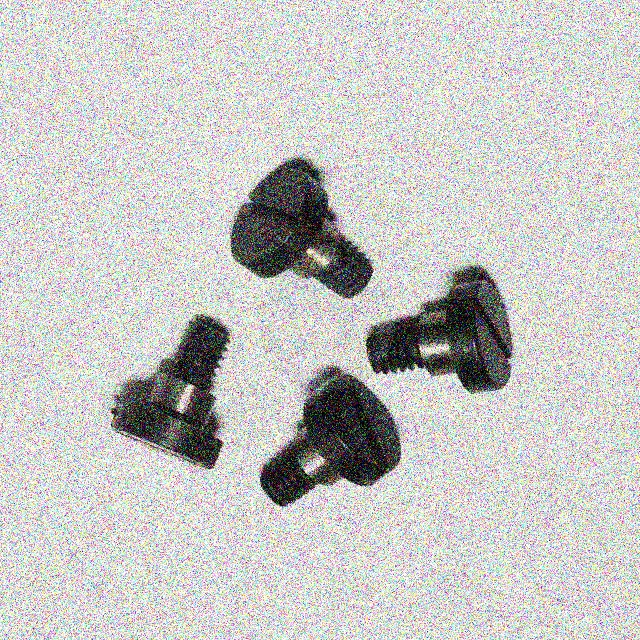duz: (308, 373, 404, 484), (230, 162, 321, 260), (458, 275, 514, 391)
